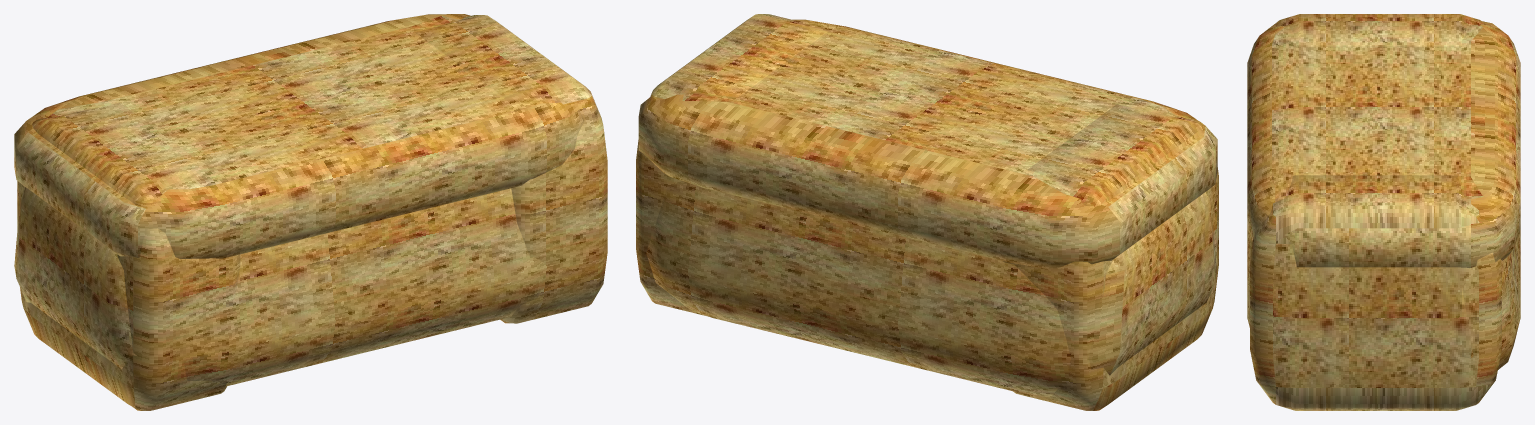
File: bread.glb
The picture shows the model from 3 angles, left to right: view 1: azimuth 30°, elevation 25°; view 2: azimuth 150°, elevation 25°; view 3: azimuth 270°, elevation 25°; orthographic projection. The views are drawn at different scales.
Visible parts, largest first — view 1: bread.ms3d.mo; view 2: bread.ms3d.mo; view 3: bread.ms3d.mo.
Boxes of the visible parts, x1=… form: bread.ms3d.mo: x1=14, y1=14, x2=607, y2=410; bread.ms3d.mo: x1=636, y1=14, x2=1218, y2=410; bread.ms3d.mo: x1=1247, y1=14, x2=1520, y2=410.
Size of the model in its own units: 31.72 by 14.19 by 17.2.
1 material, 1 textured.
